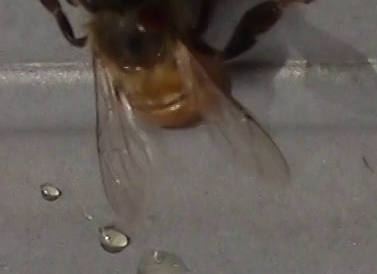Varroa destructor: (134, 6, 171, 32)
